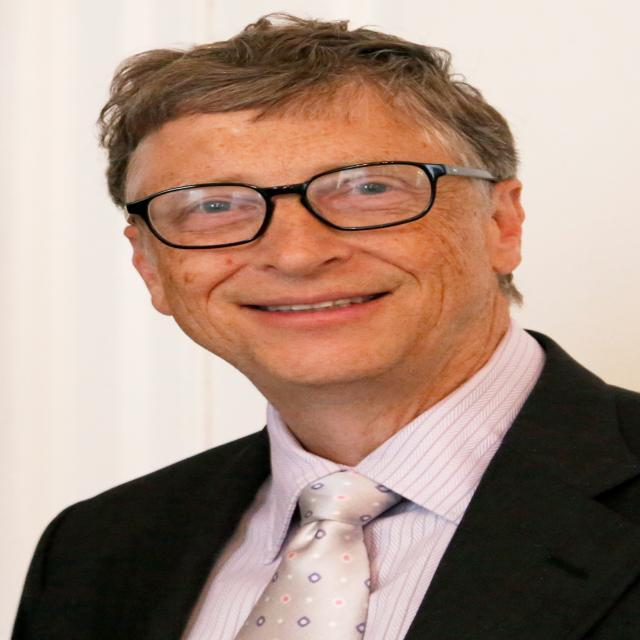Nonhelmet: (83, 0, 536, 400)
